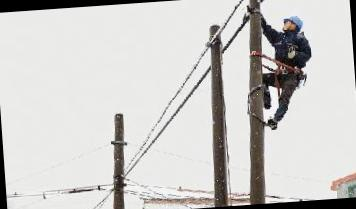person: (242, 15, 320, 128)
